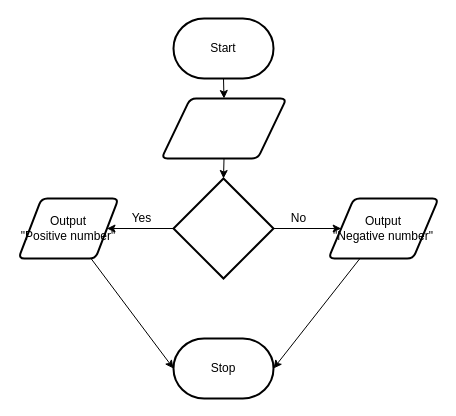
The diagram is 456 pixels wide and 416 high, and some of its shapes have lost their labels. Here are the shapes that lost their labels. From the top down, the centre of each, then its label:
At (223,128): "Enter number".
At (223,228): "if(input > 0)".
